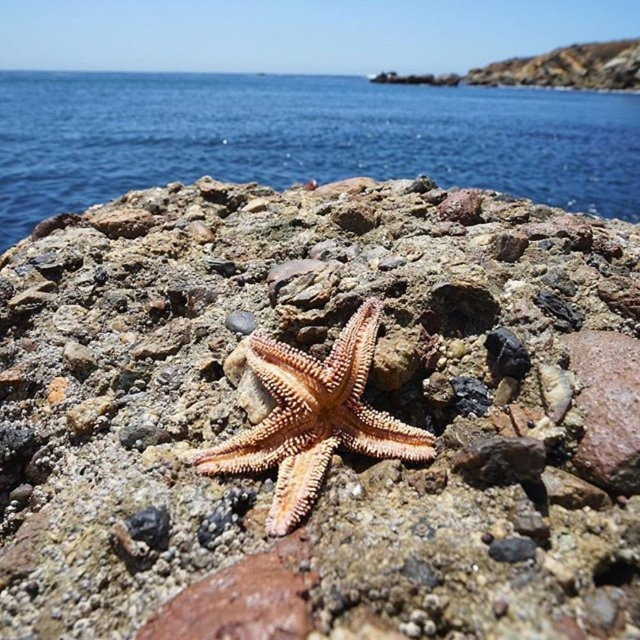Starfish: (195, 297, 436, 537)
